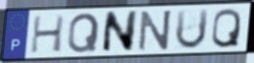H: (29, 13, 67, 55)
N: (100, 9, 140, 55), (137, 9, 174, 53)
Q: (66, 11, 101, 54), (210, 6, 243, 49)
U: (173, 8, 211, 52)
